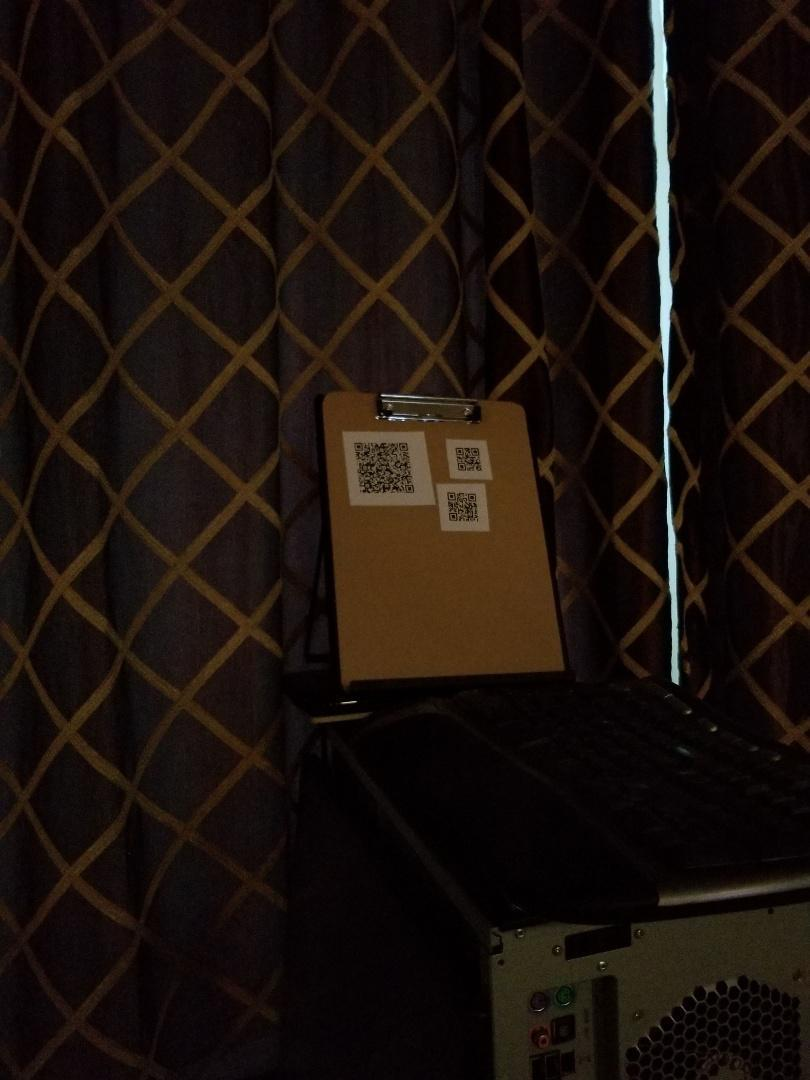Finder pattern: (397, 439, 411, 453), (402, 481, 416, 495), (446, 510, 460, 524), (452, 444, 467, 456), (469, 445, 482, 458), (351, 439, 365, 451), (445, 489, 457, 502), (454, 461, 467, 472), (468, 491, 479, 503)
